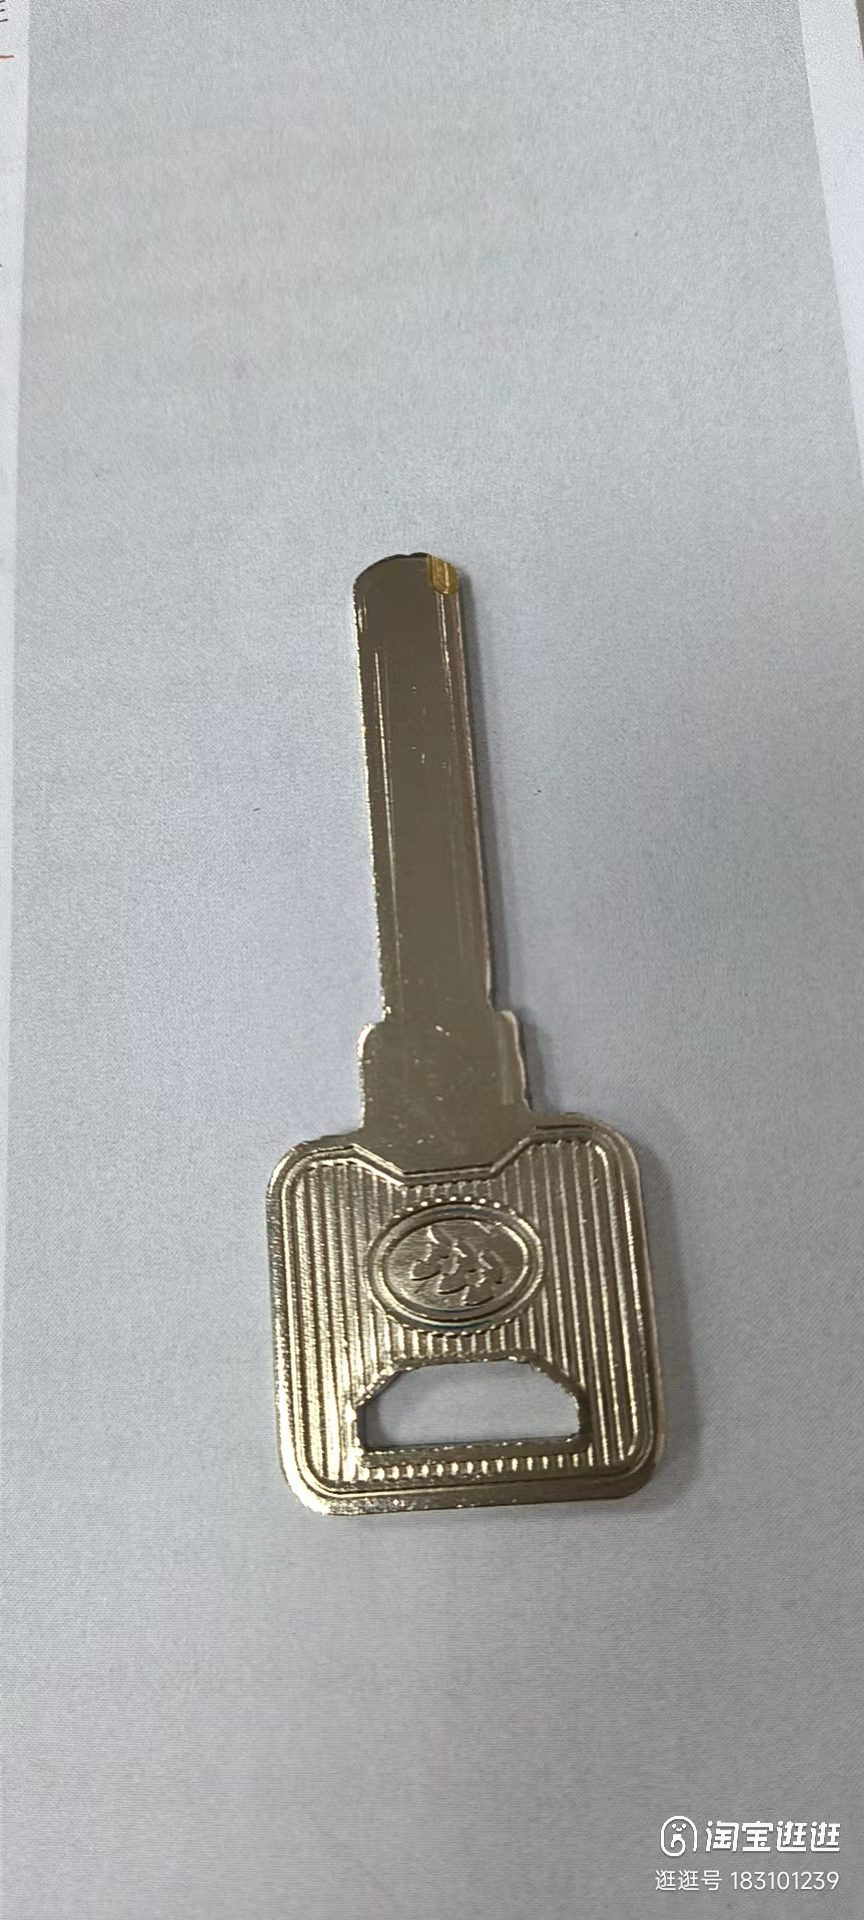key: (248, 546, 684, 1521)
